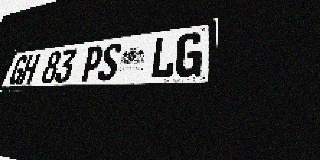3: (53, 48, 78, 83)
8: (40, 50, 63, 84)
G: (174, 31, 204, 78), (7, 55, 29, 85)
H: (18, 53, 41, 84)
L: (149, 35, 178, 79)
P: (79, 45, 105, 82)
S: (96, 42, 123, 81)
